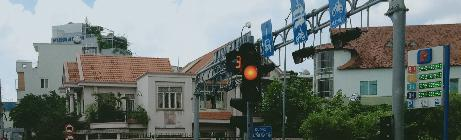yellow_light: (239, 42, 262, 102)
